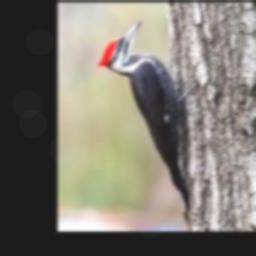Woodpecker: (96, 19, 193, 218)
